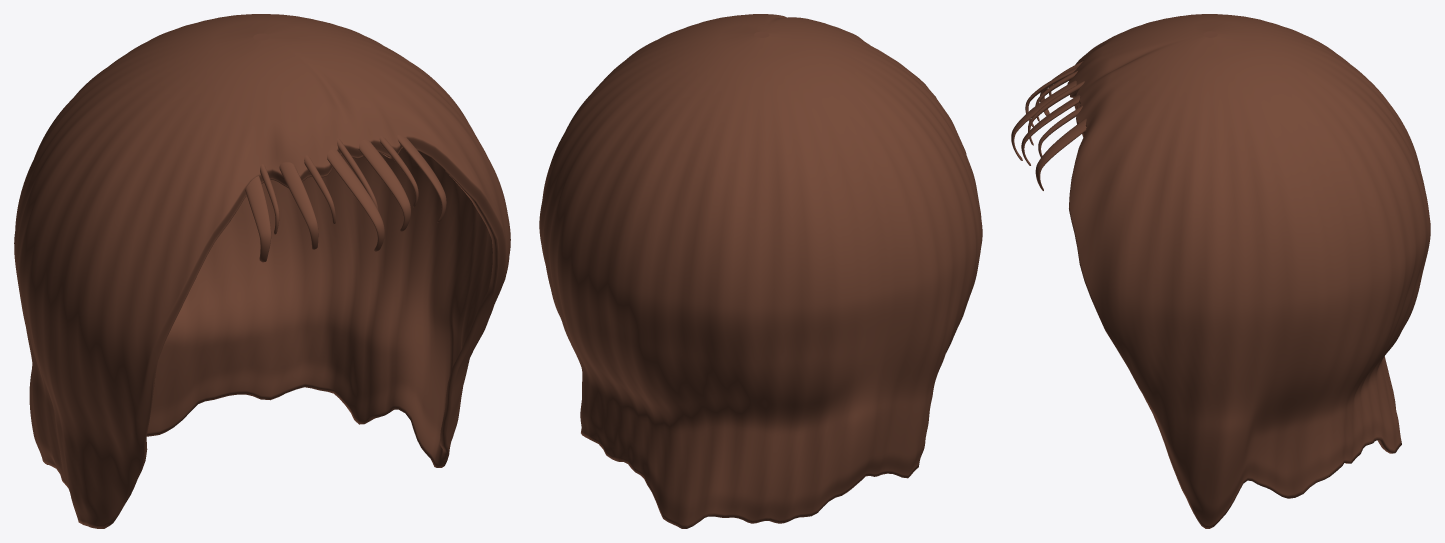
The model's file is side-sweep-none.glb.
3 renders of one model, left to right at view 1: azimuth 30°, elevation 25°; view 2: azimuth 150°, elevation 25°; view 3: azimuth 270°, elevation 25°, orthographic. The views are drawn at different scales.
Visible parts, largest first — view 1: Hair / layered lob, Fringe / arched wisp 05, Fringe / arched wisp 07, Fringe / arched wisp 01, Fringe / arched wisp 03, Fringe / arched wisp 09; view 2: Hair / layered lob; view 3: Hair / layered lob, Fringe / arched wisp 09, Fringe / arched wisp 05, Fringe / arched wisp 07.
Boxes of the visible parts, <box> form: Hair / layered lob: <box>14,14,510,528</box>; Fringe / arched wisp 05: <box>327,149,384,251</box>; Fringe / arched wisp 07: <box>358,139,410,231</box>; Fringe / arched wisp 01: <box>245,176,271,262</box>; Fringe / arched wisp 03: <box>279,162,318,249</box>; Fringe / arched wisp 09: <box>397,135,446,222</box>; Hair / layered lob: <box>539,14,982,528</box>; Hair / layered lob: <box>1067,14,1430,528</box>; Fringe / arched wisp 09: <box>1035,118,1086,190</box>; Fringe / arched wisp 05: <box>1011,80,1076,160</box>; Fringe / arched wisp 07: <box>1021,95,1080,165</box>.
Bounding box in the file's own units: 0.8388 × 0.8786 × 0.7979.
